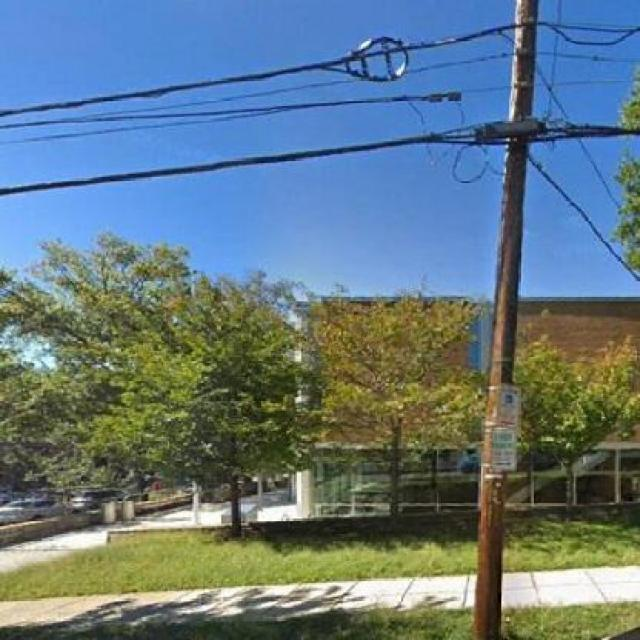pole: (449, 0, 580, 638)
